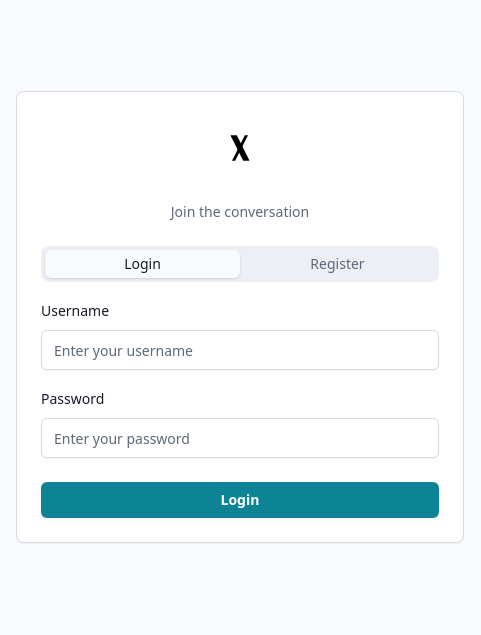
Test case: Authentication Flow Integration › Registration Flow › should show error message on failed registration
Click the tab "Register" at (338, 264), box [240,250,435,278]
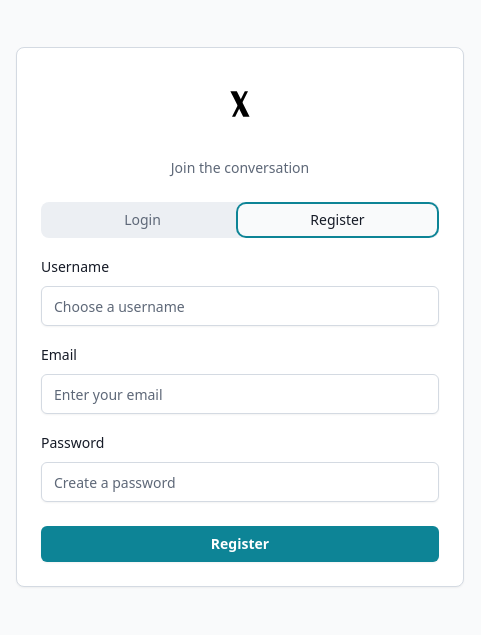
Type "existinguser" into the field labelled "Username" at (240, 306), box [41,286,439,326]
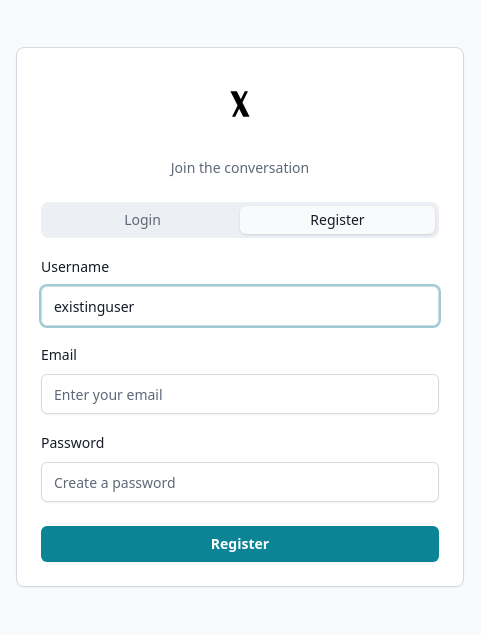
Type "test@example.com" into the field labelled "Email" at (240, 394), box [41,374,439,414]
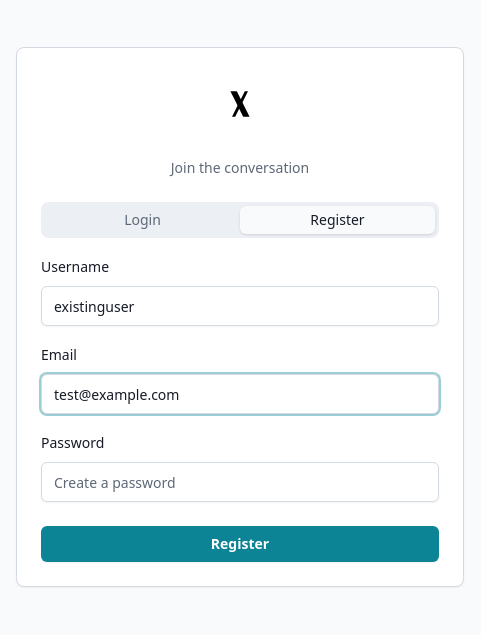
Type "password123" into the password field labelled "Password" at (240, 482), box [41,462,439,502]
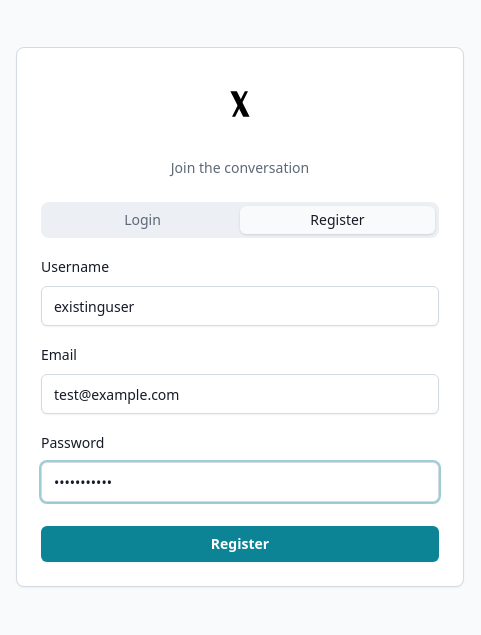
Click the button "Register" at (240, 544), box [41,526,439,562]
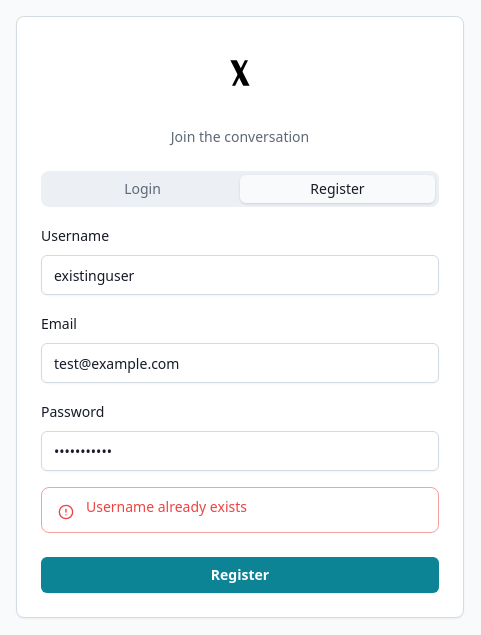
Now the text "Username already exists" is shown, box [86,497,247,516]
